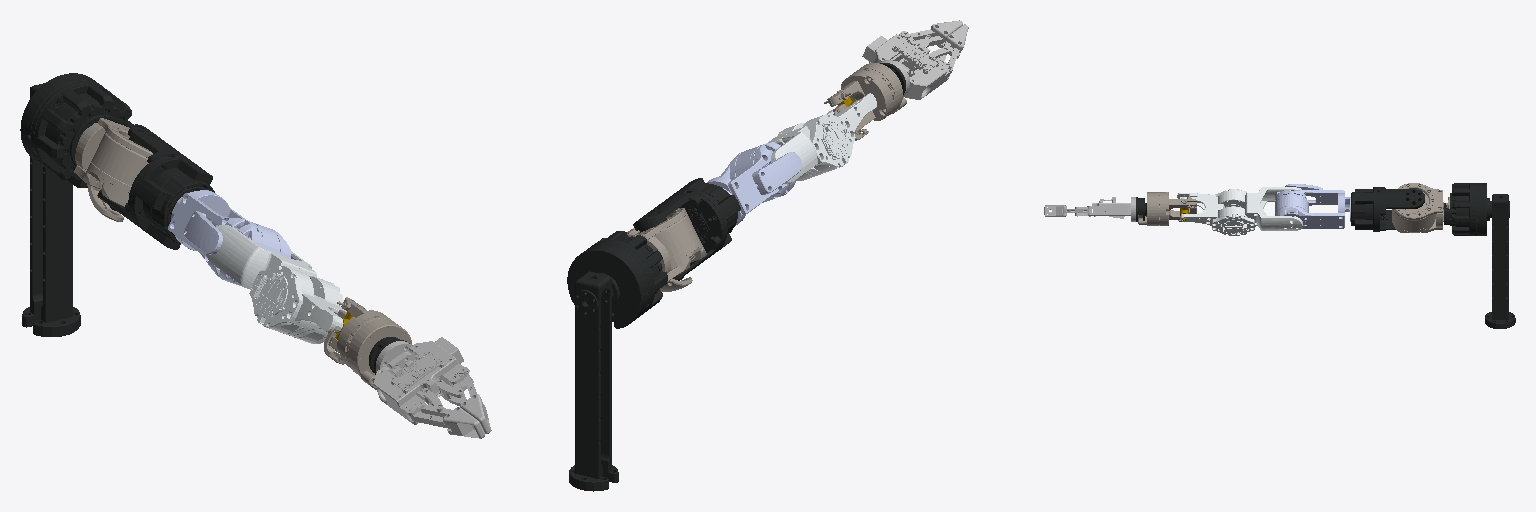
robot.urdf — right_arm:
<?xml version="1.0" encoding="utf-8"?>
<robot name="right_arm">
  <link name="base_link">
    <inertial>
      <origin xyz="-0.046219 -0.034827 0.169451" rpy="0 0 0" />
      <mass value="1.477" />
      <inertia ixx="0.008577" ixy="-1.039E-06" ixz="2.278E-05" iyy="0.009215" iyz="9.518E-07" izz="0.001158" />
    </inertial>
    <visual>
      <origin xyz="0 0 0" rpy="0 0 0" />
      <geometry>
        <mesh filename="../meshes/base_link.STL" />
      </geometry>
      <material name="">
        <color rgba="0.19 0.20 0.20 1" />
      </material>
    </visual>
    <collision>
      <origin xyz="-0.05 0 0.12" rpy="0 0 0" />
      <geometry>
        <box size="0.03 0.03 0.3"/>
      </geometry>
    </collision>
    <collision>
      <origin xyz="-0.05 -0.055 0.235" rpy="1.5708 0 0" />
      <geometry>
        <cylinder radius="0.06" length="0.07" />
      </geometry>
    </collision>
  </link>
  <link name="right_shoulder_pitch_link">
    <inertial>
      <origin xyz="-0.005325 8.266E-07 0.08346" rpy="0 0 0" />
      <mass value="1.131" />
      <inertia ixx="0.001120" ixy="-1.335E-07" ixz="-6.500E-06" iyy="0.0007355" iyz="-7.122E-07" izz="0.0007427" />
    </inertial>
    <visual>
      <origin xyz="0 0 0" rpy="0 0 0" />
      <geometry>
        <mesh filename="../meshes/right_shoulder_pitch_link.STL" />
      </geometry>
      <material name="">
        <color rgba="0.65 0.62 0.59 1" />
      </material>
    </visual>
    <collision>
      <origin xyz="0 0 0.06" rpy="0 0 0" />
      <geometry>
        <cylinder radius="0.04" length="0.05" />
      </geometry>
    </collision>
    <collision>
      <origin xyz="0 0 0.13" rpy="0 1.5708 0" />
      <geometry>
        <cylinder radius="0.046" length="0.07" />
      </geometry>
    </collision>
  </link>
  <joint name="right_shoulder_pitch" type="revolute">
    <origin xyz="-0.0484 -0.0673 0.23774" rpy="1.5708 -1.0471975511965976 0" />
    <parent link="base_link" />
    <child link="right_shoulder_pitch_link" />
    <axis xyz="0 0 1" />
    <limit lower="-1.71" upper="1.71" effort="25" velocity="4.19" />
  </joint>
  <link name="right_shoulder_roll_link">
    <inertial>
      <origin xyz="8.837E-06 -0.07657 0.007176" rpy="0 0 0" />
      <mass value="0.850" />
      <inertia ixx="0.0007163" ixy="1.694E-08" ixz="-5.619E-07" iyy="0.0008543" iyz="5.436E-06" izz="0.0007770" />
    </inertial>
    <visual>
      <origin xyz="0 0 0" rpy="0 0 0" />
      <geometry>
        <mesh filename="../meshes/right_shoulder_roll_link.STL" />
      </geometry>
      <material name="">
        <color rgba="0.19 0.20 0.20 1" />
      </material>
    </visual>
    <collision>
      <origin xyz="0 -0.1 0" rpy="1.5708 0 0" />
      <geometry>
        <cylinder radius="0.046" length="0.07" />
      </geometry>
    </collision>
  </link>
  <joint name="right_shoulder_roll" type="revolute">
    <origin xyz="-0.00505 0 0.1255" rpy="-1.5708 0 -1.5708" />
    <parent link="right_shoulder_pitch_link" />
    <child link="right_shoulder_roll_link" />
    <axis xyz="0 0 1" />
    <limit lower="-1.92" upper="1.92" effort="25" velocity="4.19" />
  </joint>
  <link name="right_shoulder_yaw_link">
    <inertial>
      <origin xyz="2.847E-05 0.003227 0.102424" rpy="0 0 0" />
      <mass value="1.202" />
      <inertia ixx="0.00102629" ixy="1.422E-07" ixz="1.234E-08" iyy="0.0012418" iyz="-5.632E-06" izz="0.00054793" />
    </inertial>
    <visual>
      <origin xyz="0 0 0" rpy="0 0 0" />
      <geometry>
        <mesh filename="../meshes/right_shoulder_yaw_link.STL" />
      </geometry>
      <material name="">
        <color rgba="0.79 0.82 0.93 1" />
      </material>
    </visual>
    <collision>
      <origin xyz="0 0 0.14" rpy="0 0 0" />
      <geometry>
        <cylinder radius="0.035" length="0.15" />
      </geometry>
    </collision>
  </link>
  <joint name="right_shoulder_yaw" type="revolute">
    <origin xyz="0 -0.0909 0.00505" rpy="1.5708 -1.5708 0" />
    <parent link="right_shoulder_roll_link" />
    <child link="right_shoulder_yaw_link" />
    <axis xyz="0 0 1" />
    <limit lower="-1.71" upper="1.71" effort="18" velocity="7.33" />
  </joint>
  <link name="right_forearm">
    <inertial>
      <origin xyz="0.105563 0.0079076 0.0018363" rpy="0 0 0" />
      <mass value="0.916" />
      <inertia ixx="0.000399696" ixy="-0.00011456" ixz="1.856E-06" iyy="0.002822460" iyz="-1.519E-07" izz="0.00297392" />
    </inertial>
    <visual>
      <origin xyz="0 0 0" rpy="0 0 0" />
      <geometry>
        <mesh filename="../meshes/right_forearm.STL" />
      </geometry>
      <material name="">
        <color rgba="0.90 0.92 0.93 1" />
      </material>
    </visual>
    <collision>
      <origin xyz="0.12 0 -0.02" rpy="0 1.5708 0" />
      <geometry>
        <box size="0.028 0.03 0.125" />
      </geometry>
    </collision>
  </link>
  <joint name="right_elbow" type="revolute">
    <origin xyz="0 0.00155 0.182" rpy="1.5708 -1.5708 0" />
    <parent link="right_shoulder_yaw_link" />
    <child link="right_forearm" />
    <axis xyz="0 0 1" />
    <limit lower="-2.27" upper="2.27" effort="18" velocity="7.33" />
  </joint>
  <link name="right_wrist_cross">
    <inertial>
      <origin xyz="-0.00071977 -2.491E-09 -1.747E-08" rpy="0 0 0" />
      <mass value="0.123" />
      <inertia ixx="2.352E-05" ixy="-3.529E-11" ixz="3.683E-11" iyy="1.970E-05" iyz="1.900E-11" izz="1.098E-05" />
    </inertial>
    <visual>
      <origin xyz="0 0 0" rpy="0 0 0" />
      <geometry>
        <mesh filename="../meshes/right_wrist_cross.STL" />
      </geometry>
      <material name="">
        <color rgba="0.65 0.52 0 1" />
      </material>
    </visual>
    <collision>
      <origin xyz="0 0 0" rpy="0 0 0" />
      <geometry>
        <box size="0.015 0.03 0.025" />
      </geometry>
    </collision>
  </link>
  <joint name="right_wrist_pitch" type="fixed">
    <origin xyz="0.24 0 0.00155" rpy="3.1416 0 0" />
    <parent link="right_forearm" />
    <child link="right_wrist_cross" />
    <axis xyz="0 0 1" />
    <limit lower="-0.001" upper="0.001" effort="0" velocity="0" />
  </joint>
  <link name="right_wrist">
    <inertial>
      <origin xyz="0.04092324 0.0011963 -0.00018242" rpy="0 0 0" />
      <mass value="0.396" />
      <inertia ixx="0.0002687" ixy="-1.387E-06" ixz="4.739E-07" iyy="0.0001846377" iyz="-1.138E-08" izz="0.00021488" />
    </inertial>
    <visual>
      <origin xyz="0 0 0" rpy="0 0 0" />
      <geometry>
        <mesh filename="../meshes/right_wrist.STL" />
      </geometry>
      <material name="">
        <color rgba="0.65 0.62 0.59 1" />
      </material>
    </visual>
    <collision>
      <origin xyz="0.05 0 0" rpy="0 1.5708 0" />
      <geometry>
        <cylinder radius="0.035" length="0.07" />
      </geometry>
    </collision>
  </link>
  <joint name="right_wrist_yaw" type="fixed">
    <origin xyz="0 0 0" rpy="0 0 0" />
    <parent link="right_wrist_cross" />
    <child link="right_wrist" />
    <axis xyz="0 1 0" />
    <limit lower="-0.001" upper="0.001" effort="3.5" velocity="19.9" />
  </joint>
  <link name="right_gripper_base">
    <inertial>
      <origin xyz="0.0031399 2.217E-09 0.03058094" rpy="0 0 0" />
      <mass value="0.1834" />
      <inertia ixx="4.476E-05" ixy="-4.851E-12" ixz="-6.837E-07" iyy="4.897E-05" iyz="-8.350E-12" izz="7.060E-05" />
    </inertial>
    <visual>
      <origin xyz="0 0 0" rpy="0 0 0" />
      <geometry>
        <mesh filename="../meshes/right_gripper_base.STL" />
      </geometry>
      <material name="">
        <color rgba="0.19 0.20 0.20 1" />
      </material>
    </visual>
    <collision>
      <origin xyz="0. 0 0.033" rpy="0 0 0" />
      <geometry>
        <cylinder radius="0.028" length="0.02" />
      </geometry>
    </collision>
  </link>
  <joint name="right_wrist_roll" type="revolute">
    <origin xyz="0.0649 0 0" rpy="1.5708 0 1.5708" />
    <parent link="right_wrist" />
    <child link="right_gripper_base" />
    <axis xyz="0 0 1" />
    <limit lower="-1.71" upper="1.71" effort="3.5" velocity="20" />
  </joint>
  <link
    name="right_gripper_link">
    <inertial>
      <origin
        xyz="0.0021845 -0.0018271 0.07134"
        rpy="0 0 0" />
      <mass
        value="0.3" />
      <inertia
        ixx="0.0002141"
        ixy="7.1416E-05"
        ixz="1.8449E-06"
        iyy="0.00026365"
        iyz="8.5818E-07"
        izz="0.00018982" />
    </inertial>
    <visual>
      <origin
        xyz="0 0 0"
        rpy="0 0 0" />
      <geometry>
        <mesh
          filename="../meshes/Gripper.STL" />
      </geometry>
      <material
        name="">
        <color
          rgba="0.75294 0.75294 0.75294 1" />
      </material>
    </visual>
    <collision>
      <origin
        xyz="0 0 0"
        rpy="0 0 0" />
      <geometry>
        <mesh
          filename="../meshes/Gripper.STL" />
      </geometry>
    </collision>
  </link>
  <joint
    name="right_gripper"
    type="fixed">
    <origin
      xyz="0 0 0.044"
      rpy="0 0 0" />
    <parent
      link="right_gripper_base" />
    <child
      link="right_gripper_link" />
    <axis
      xyz="0 0 1" />
  </joint>
  <link
    name="right_gripper_ee">
  </link>
  <joint
    name="right_gripper_ee"
    type="fixed">
    <origin
      xyz="0 0 0.2025"
      rpy="0 0 -0.625" />
    <parent
      link="right_gripper_link" />
    <child
      link="right_gripper_ee" />
    <axis
      xyz="0 0 1" />
  </joint>
</robot>

--- What the picture shows (computed from the rendered views, not written in the file) ---
Views: 3 orthographic renders of the robot side by side, from view 1: azimuth 30°, elevation 25°; view 2: azimuth 150°, elevation 25°; view 3: azimuth 270°, elevation 25°.
Robot: right_arm — 10 links, 9 joints (5 revolute, 4 fixed); root link base_link; default pose: all joints at 0.
Links seen in each view (by area): view 1: base_link, right_forearm, right_gripper_link, right_shoulder_roll_link, right_shoulder_pitch_link, right_shoulder_yaw_link, right_wrist; view 2: base_link, right_gripper_link, right_forearm, right_shoulder_roll_link, right_shoulder_yaw_link, right_shoulder_pitch_link, right_wrist; view 3: base_link, right_forearm, right_shoulder_yaw_link, right_shoulder_roll_link, right_shoulder_pitch_link, right_wrist, right_gripper_link.
Boxes of the visible links, <box> form: base_link: <box>20,73,133,336</box>; right_forearm: <box>206,225,346,343</box>; right_gripper_link: <box>373,337,491,438</box>; right_shoulder_roll_link: <box>97,124,214,249</box>; right_shoulder_pitch_link: <box>74,118,152,221</box>; right_shoulder_yaw_link: <box>168,190,291,288</box>; right_wrist: <box>324,297,412,389</box>; base_link: <box>567,231,667,491</box>; right_gripper_link: <box>862,20,968,99</box>; right_forearm: <box>768,93,876,183</box>; right_shoulder_roll_link: <box>633,178,740,280</box>; right_shoulder_yaw_link: <box>707,142,801,225</box>; right_shoulder_pitch_link: <box>627,208,706,291</box>; right_wrist: <box>824,63,906,140</box>; base_link: <box>1444,183,1515,328</box>; right_forearm: <box>1177,187,1302,235</box>; right_shoulder_yaw_link: <box>1275,184,1350,228</box>; right_shoulder_roll_link: <box>1351,187,1424,231</box>; right_shoulder_pitch_link: <box>1392,183,1449,232</box>; right_wrist: <box>1138,192,1196,225</box>; right_gripper_link: <box>1044,197,1135,221</box>.
Size in the robot's own frame: 0.1196 by 1.05 by 0.339 metres.
Meshes: 9 distinct files referenced, 9 mesh visuals loaded (9 binary STL).